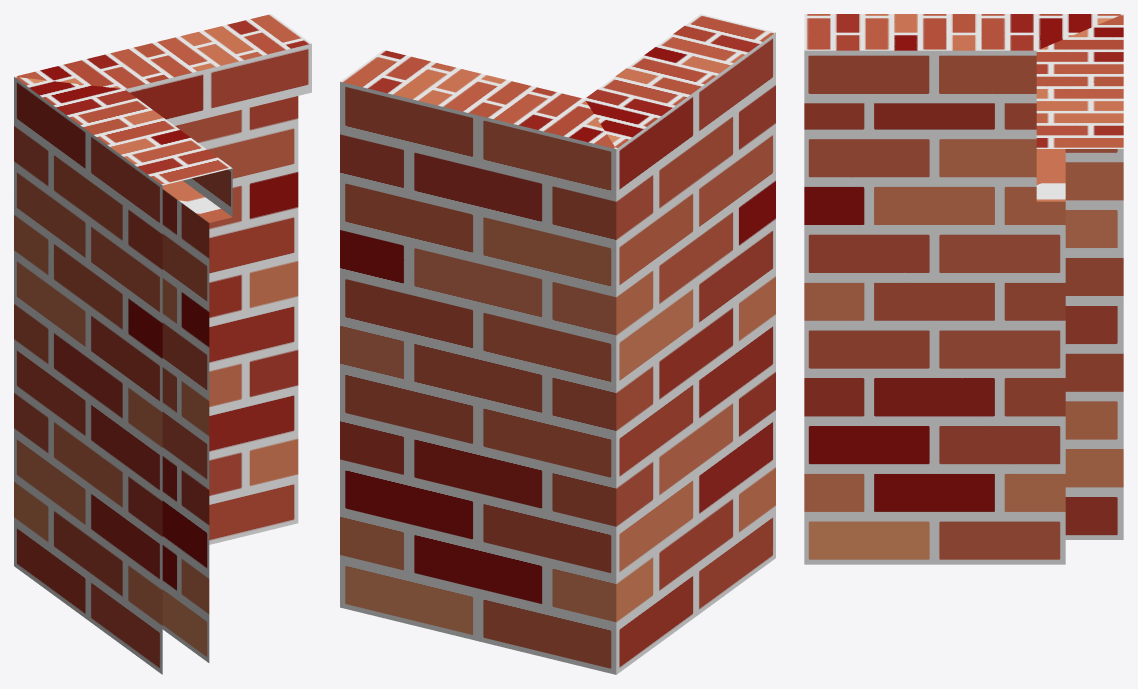
The model's file is Wall_Corner_Closed.fbx.
The picture shows the model from 3 angles, left to right: view 1: azimuth 30°, elevation 25°; view 2: azimuth 150°, elevation 25°; view 3: azimuth 270°, elevation 25°; orthographic projection. The views are drawn at different scales.
Parts seen in each view (by area): view 1: Wall_Corner_Closed; view 2: Wall_Corner_Closed; view 3: Wall_Corner_Closed.
Part boxes in pixels (bbox=[...]): Wall_Corner_Closed: bbox=[14, 14, 311, 674]; Wall_Corner_Closed: bbox=[340, 14, 775, 674]; Wall_Corner_Closed: bbox=[804, 14, 1123, 564].
Bounding box in the file's own units: 110 × 200 × 110.
